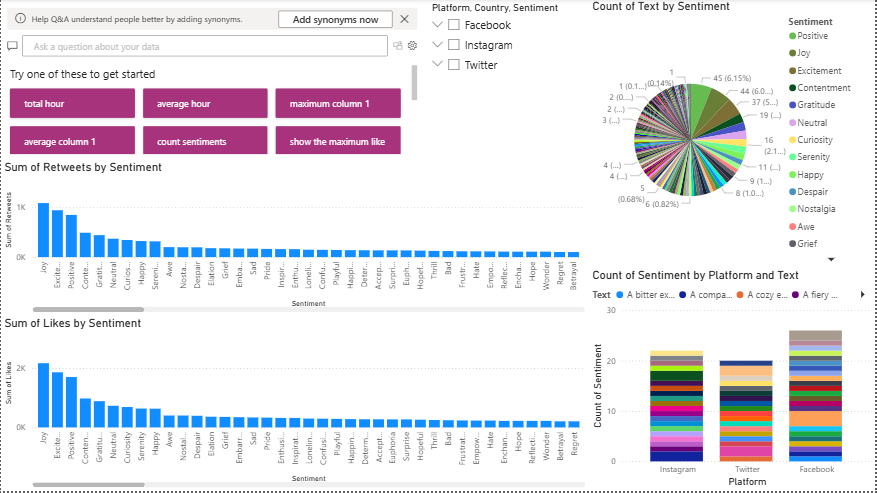

What the dashboard file says about the page in this screenshot:
{"tool":"powerbi","page":{"name":"Page 1","canvas":[1280,720],"ordinal":0},"visuals":[{"type":"pieChart","fields":{"Category":["sentimentdataset.Sentiment"],"Y":["CountNonNull(sentimentdataset.Text)"]},"box":[860.5,0,420,393.7],"z":0},{"type":"columnChart","fields":{"Category":["sentimentdataset.Platform"],"Y":["CountNonNull(sentimentdataset.Sentiment)"],"Series":["sentimentdataset.Text"]},"box":[860.5,393.7,420,326.3],"z":1000},{"type":"clusteredColumnChart","fields":{"Category":["sentimentdataset.Sentiment"],"Y":["Sum(sentimentdataset.Retweets)"]},"box":[0,235.6,860.5,228.3],"z":3000},{"type":"slicer","fields":{"Values":["sentimentdataset.Platform","sentimentdataset.Country","sentimentdataset.Sentiment"]},"box":[617.6,0,242.9,235.6],"z":4000},{"type":"clusteredColumnChart","fields":{"Category":["sentimentdataset.Sentiment"],"Y":["Sum(sentimentdataset.Likes)"]},"box":[0,463.9,860.5,256.1],"z":5000},{"type":"qnaVisual","box":[0,0,617.6,235.6],"z":6000}]}

Visuals, with their boxes on the page's 1280x720 design canvas (x1, y1, x2, y2). These are canvas units, not pixel positions in the 877x493 screenshot, which may show the page scaled, cropped or inside an application window:
pieChart - sentimentdataset.Sentiment x CountNonNull(sentimentdataset.Text): rect(860, 0, 1280, 394)
columnChart - sentimentdataset.Platform x CountNonNull(sentimentdataset.Sentiment): rect(860, 394, 1280, 720)
clusteredColumnChart - sentimentdataset.Sentiment x Sum(sentimentdataset.Retweets): rect(0, 236, 860, 464)
slicer - sentimentdataset.Platform x sentimentdataset.Country: rect(618, 0, 860, 236)
clusteredColumnChart - sentimentdataset.Sentiment x Sum(sentimentdataset.Likes): rect(0, 464, 860, 720)
qnaVisual: rect(0, 0, 618, 236)
